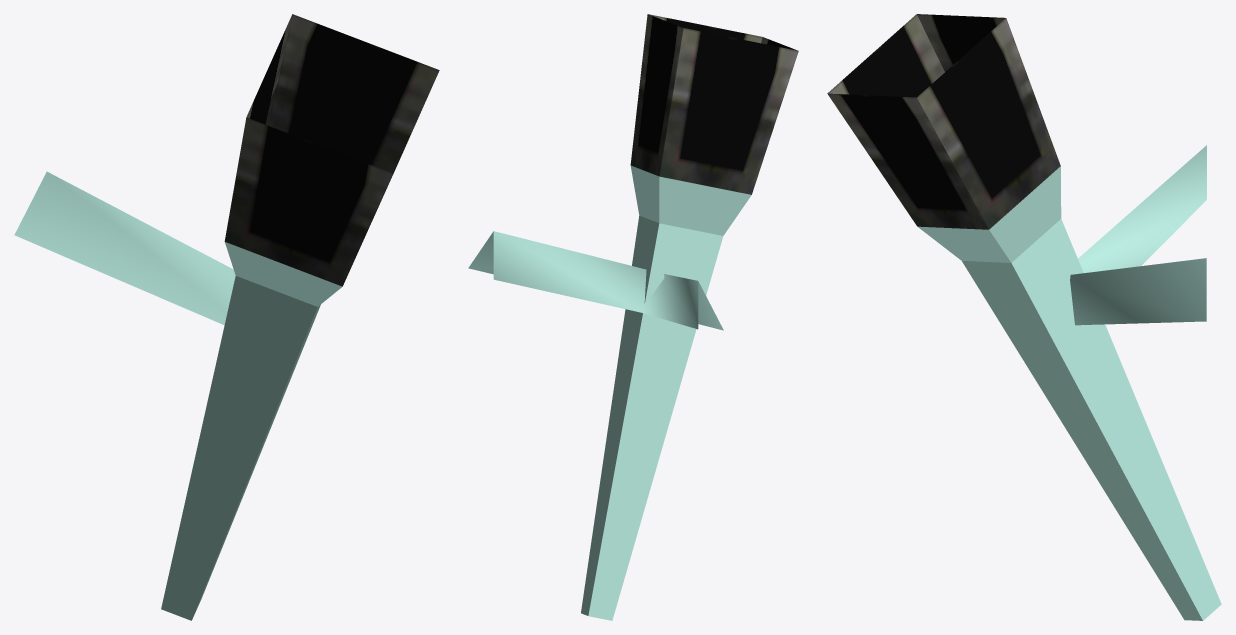
The picture shows the model from 3 angles, left to right: view 1: azimuth 30°, elevation 25°; view 2: azimuth 150°, elevation 25°; view 3: azimuth 270°, elevation 25°; orthographic projection. The views are drawn at different scales.
Parts seen in each view (by area): view 1: FireLight02; view 2: FireLight02; view 3: FireLight02.
Boxes of the visible parts, x1,y1,x2,y2 form: FireLight02: (14, 14, 439, 620); FireLight02: (468, 14, 798, 620); FireLight02: (827, 14, 1221, 620).
Size of the model in its own units: 38.96 by 77.46 by 45.99.
